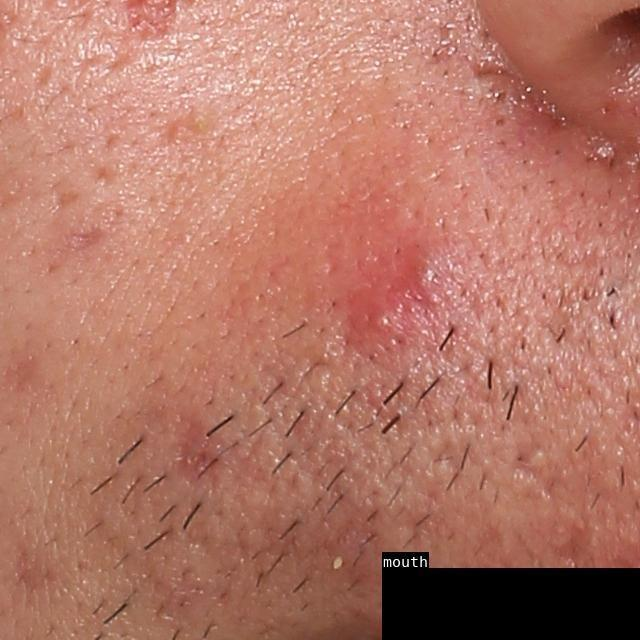atrophic_scar: (172, 401, 230, 490), (545, 520, 597, 577), (47, 225, 109, 270)
